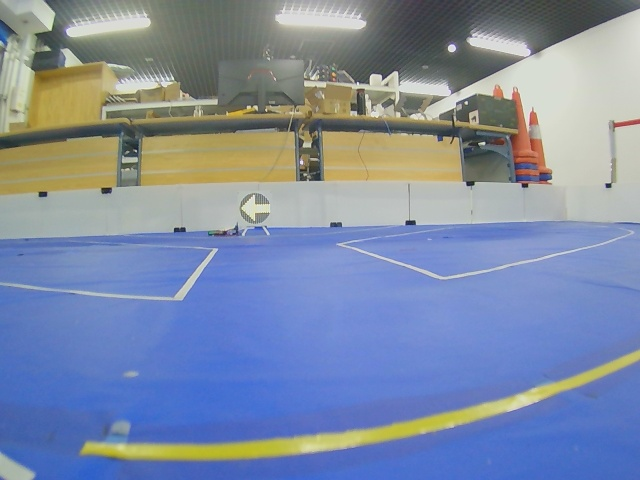left_yellow: (240, 193, 270, 224)
